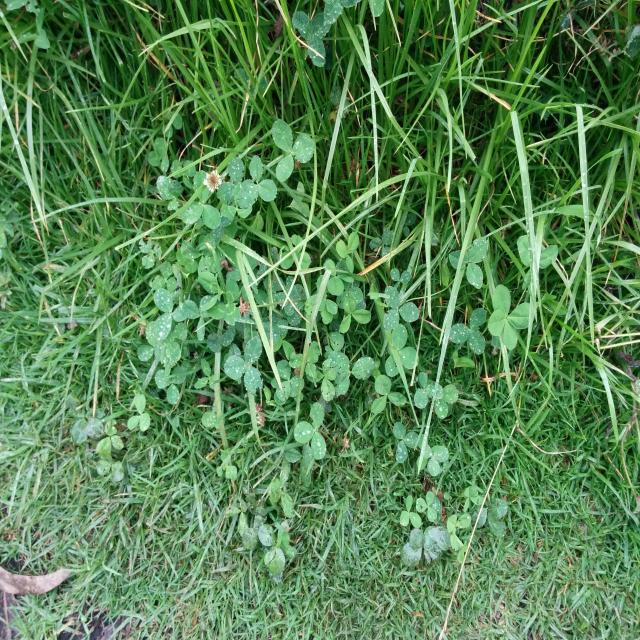Four Leaf Clover: (488, 284, 530, 351)
